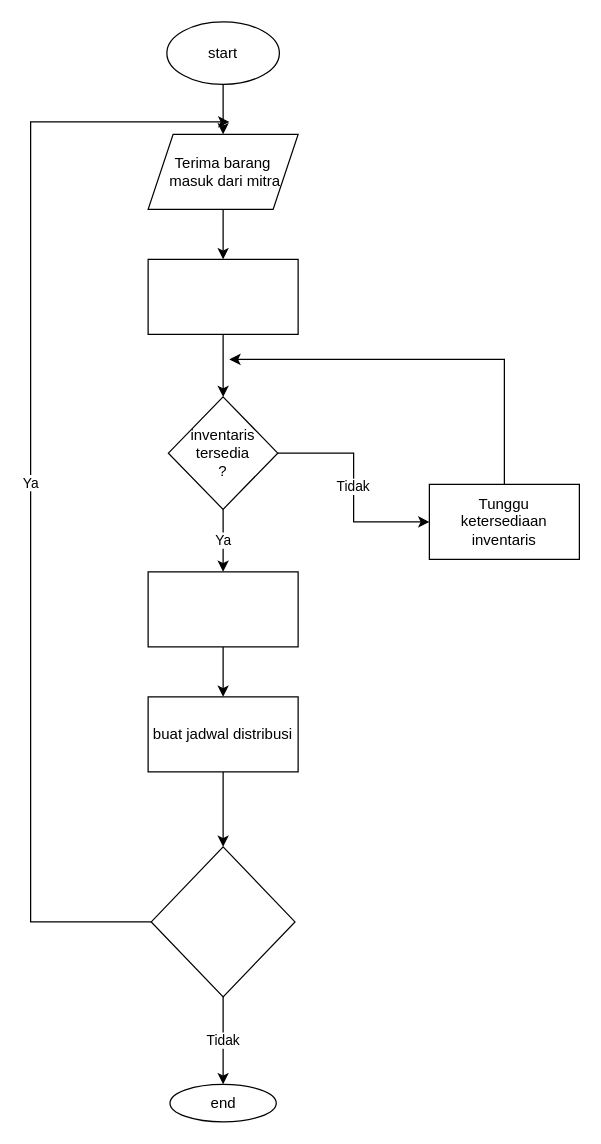
This 601x1144 diagram has some shape labels left out. The centre of each missing label's shape, as x and y in pixels:
ada barang masuk lain ?: pixel 222 921
Alokasi inventaris untuk distribusi keluar: pixel 222 609
Periksa ketersediaan inventaris: pixel 222 296
